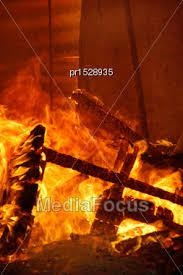fire: (0, 65, 174, 249)
